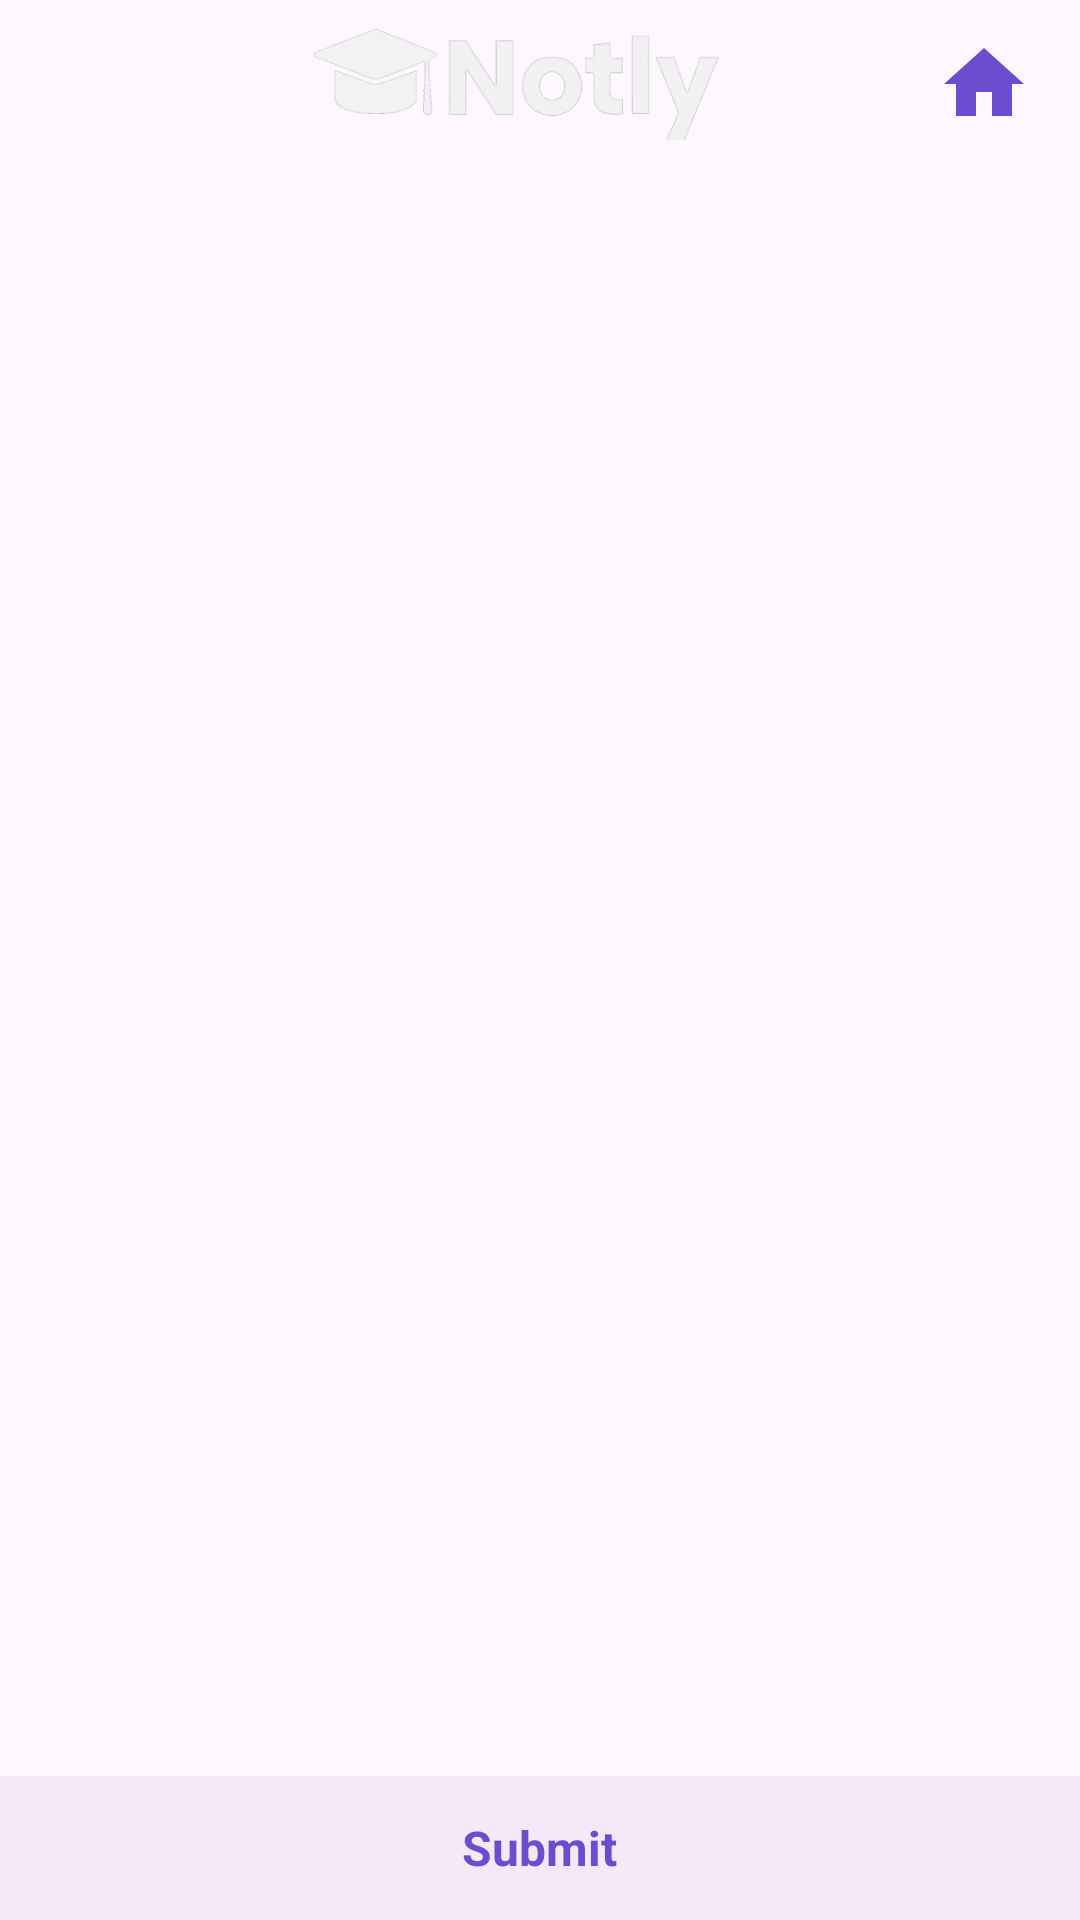

Icons on this 1080×1920 Android screen, each with the point to tap as (x,y):
Home: (984,82)
